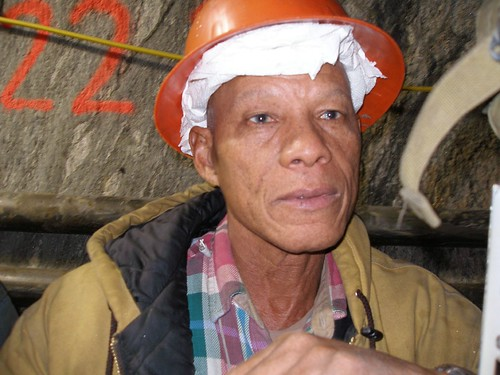person hardhat: (93, 2, 486, 375)
